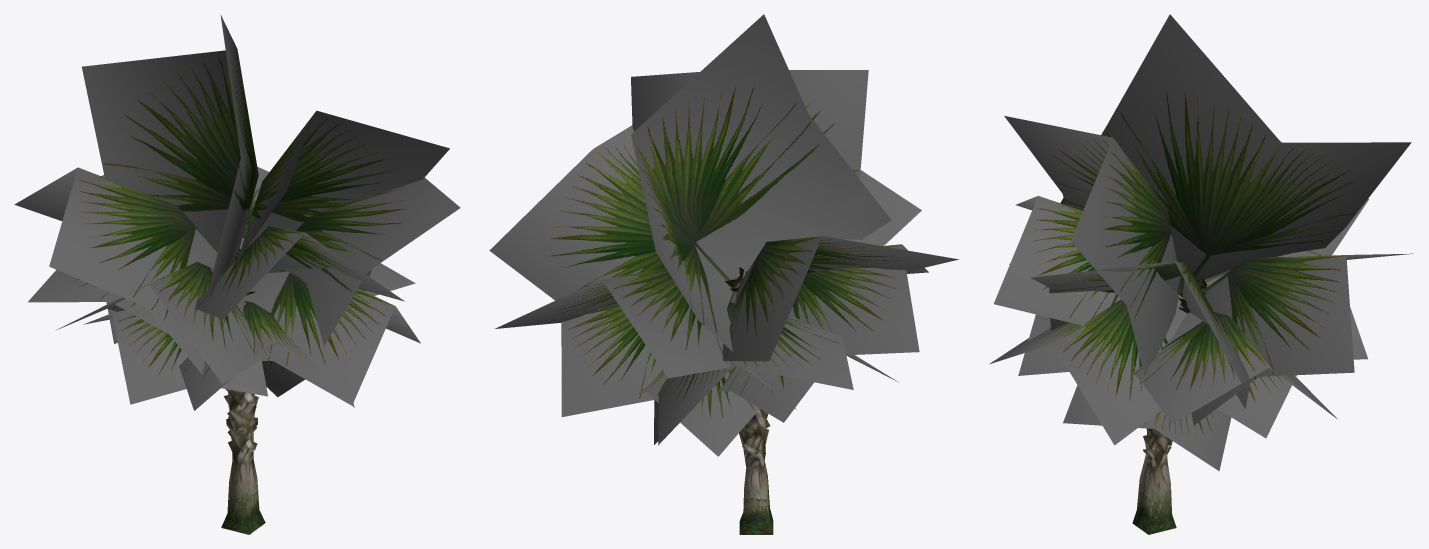
The model's file is sholazarpalm_tree02.obj.
The picture shows the model from 3 angles, left to right: view 1: azimuth 30°, elevation 25°; view 2: azimuth 150°, elevation 25°; view 3: azimuth 270°, elevation 25°; orthographic projection. The views are drawn at different scales.
Parts seen in each view (by area): view 1: Geoset0, Geoset1; view 2: Geoset0, Geoset1; view 3: Geoset0, Geoset1.
Boxes of the visible parts, x1,y1,x2,y2 form: Geoset0: (14,15,460,410); Geoset1: (221,249,265,534); Geoset0: (489,14,959,456); Geoset1: (725,267,773,534); Geoset0: (989,14,1413,471); Geoset1: (1132,276,1206,534).
Size of the model in its own units: 33.21 by 39.23 by 30.03.
Materials: 2 (2 with a texture image).
